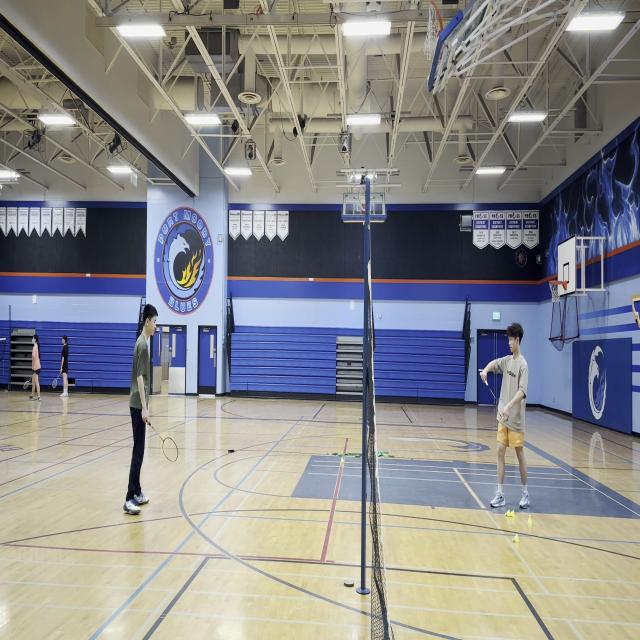shuttlecock: (502, 414, 506, 422)
